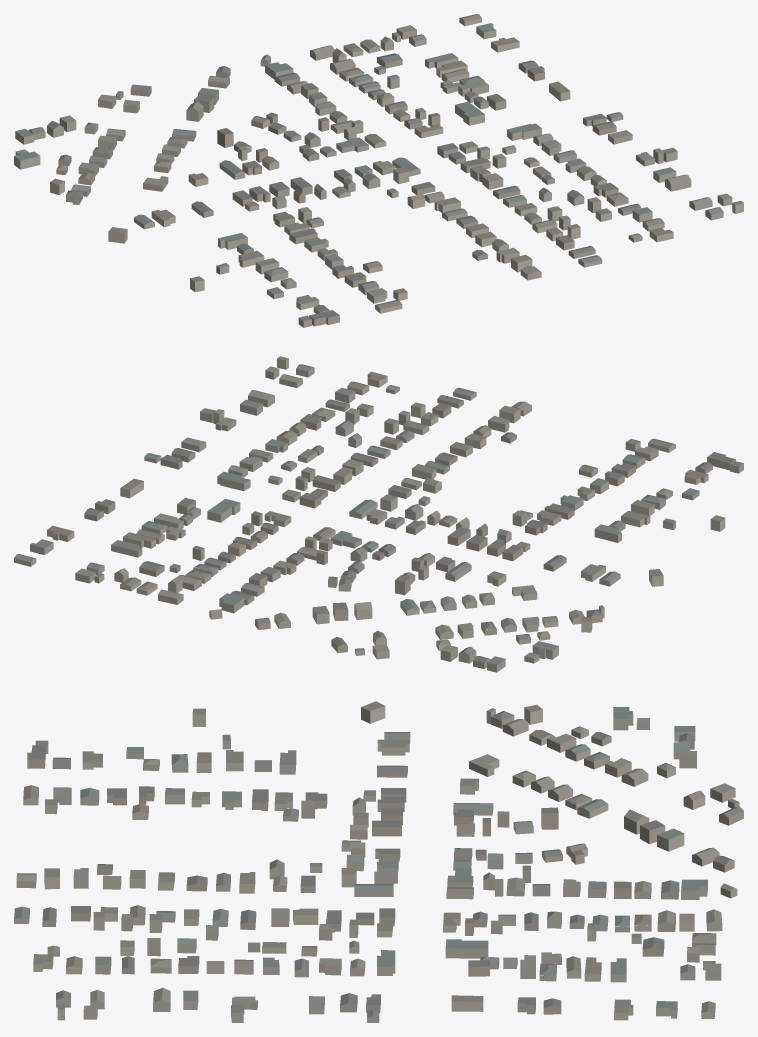
The model's file is 6e45d882c3f4-chunk-1199_11843.glb.
The picture shows the model from 3 angles, top to bottom: view 1: azimuth 30°, elevation 25°; view 2: azimuth 150°, elevation 25°; view 3: azimuth 270°, elevation 25°; orthographic projection. The views are drawn at different scales.
Visible parts, largest first — view 1: no part large enough to name; view 2: building_146929; view 3: building_146929, building_7021, building_139769.
Boxes of the visible parts, x1=… form: building_146929: x1=207, y1=498, x2=240, y2=522; building_146929: x1=445, y1=939, x2=488, y2=958; building_7021: x1=451, y1=995, x2=483, y2=1011; building_139769: x1=681, y1=879, x2=707, y2=899.
Size of the model in its own units: 393 by 10.15 by 392.
